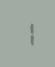one: (19, 20, 34, 46)
